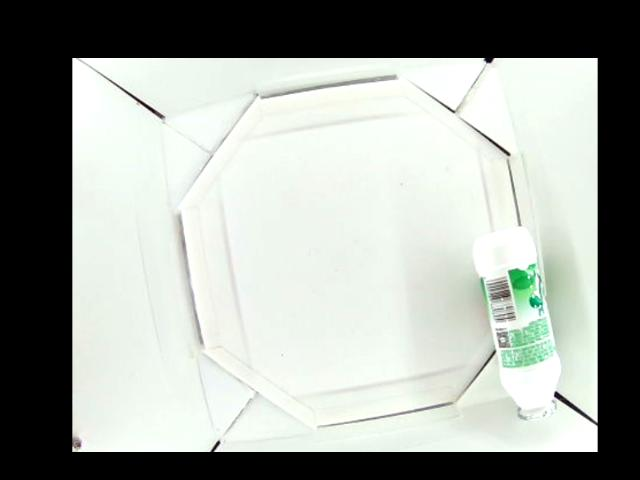Bottle: (472, 226, 564, 420)
